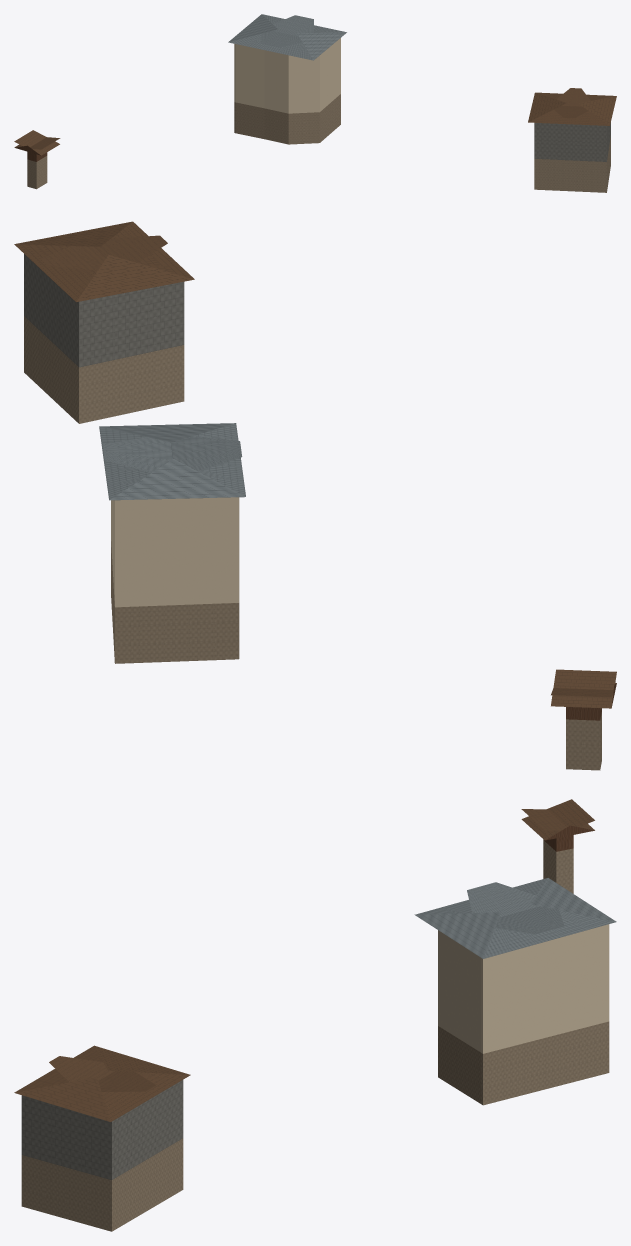
Rendered from bld_c43_32_263.gltf.
3 views of the same model, one above another, from view 1: azimuth 30°, elevation 25°; view 2: azimuth 150°, elevation 25°; view 3: azimuth 270°, elevation 25° (orthographic). The views are drawn at different scales.
Parts seen in each view (by area): view 1: bld_c43_32_263; view 2: bld_c43_32_263; view 3: bld_c43_32_263.
Boxes of the visible parts, x1,y1,x2,y2 form: bld_c43_32_263: [14, 14, 616, 192]; bld_c43_32_263: [14, 221, 616, 770]; bld_c43_32_263: [14, 799, 616, 1231].
Bounding box in the file's own units: 80.33 × 17.3 × 54.06.
7 materials, 7 textured.
